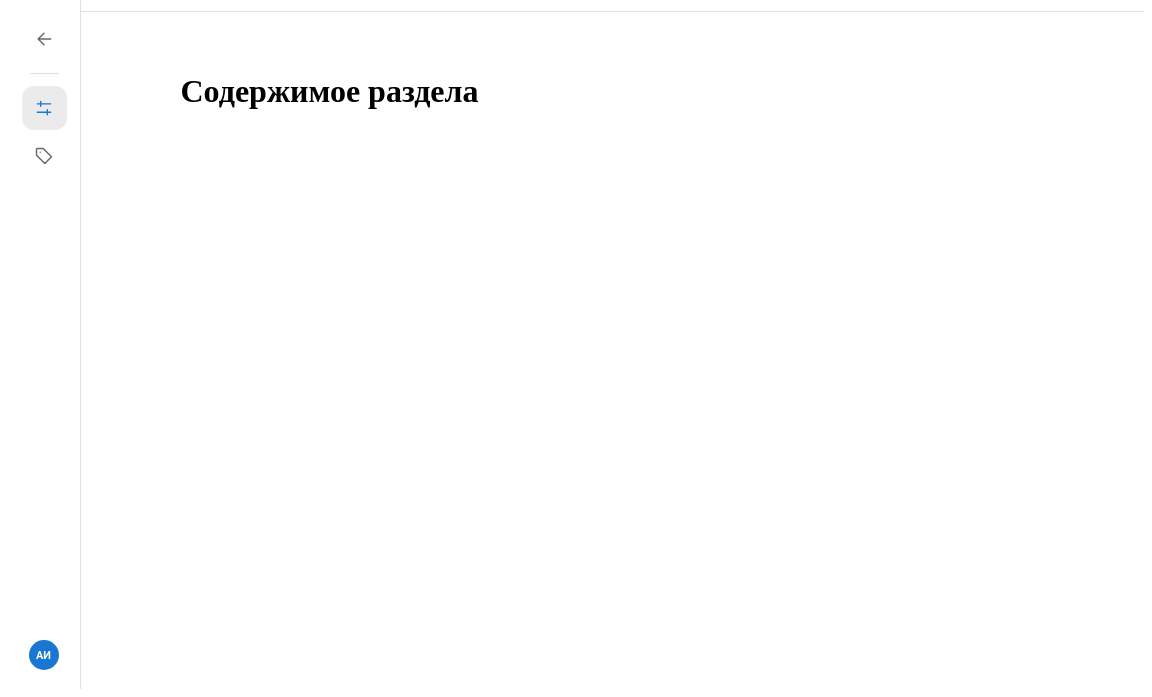
Test: settings shell sidebar › keeps the names of the icon-only links and the avatar menu in the rail
(page scrolled)
Click the button with aria-label "Меню пользователя в боковой панели" at (44, 655), box [22, 633, 66, 677]
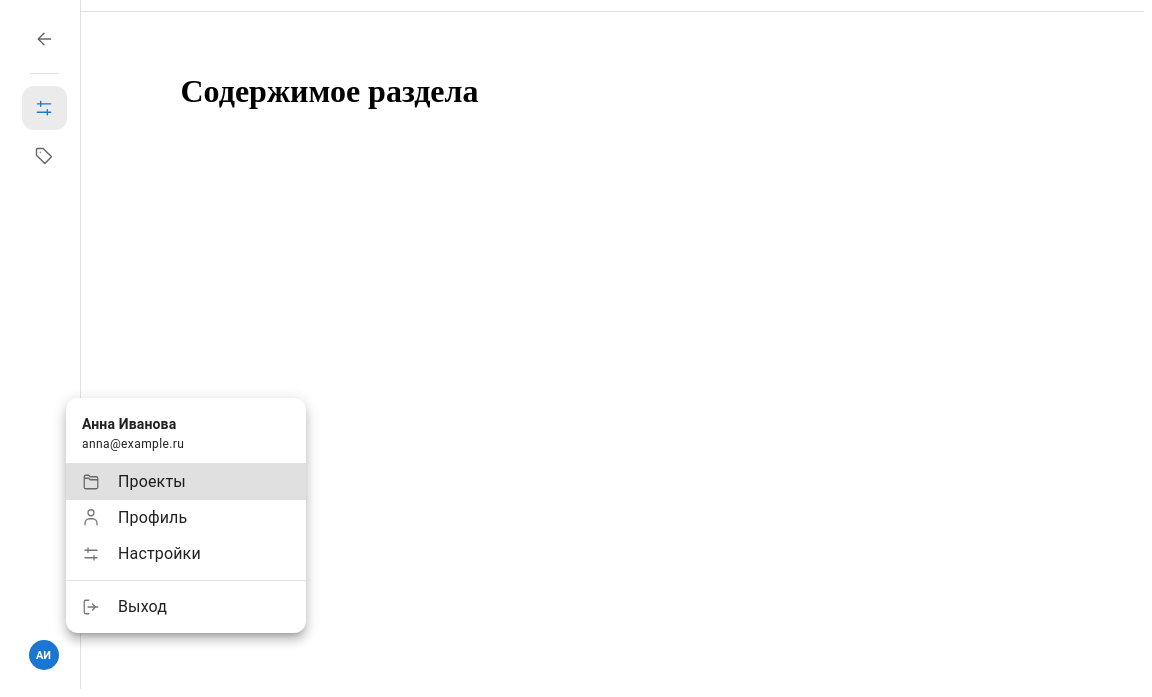
Now the menu items read "Проекты", "Профиль", "Настройки", "Выход", in this order, box [66, 464, 306, 500]; [82, 508, 187, 527]; [82, 544, 201, 563]; [82, 597, 167, 616]
